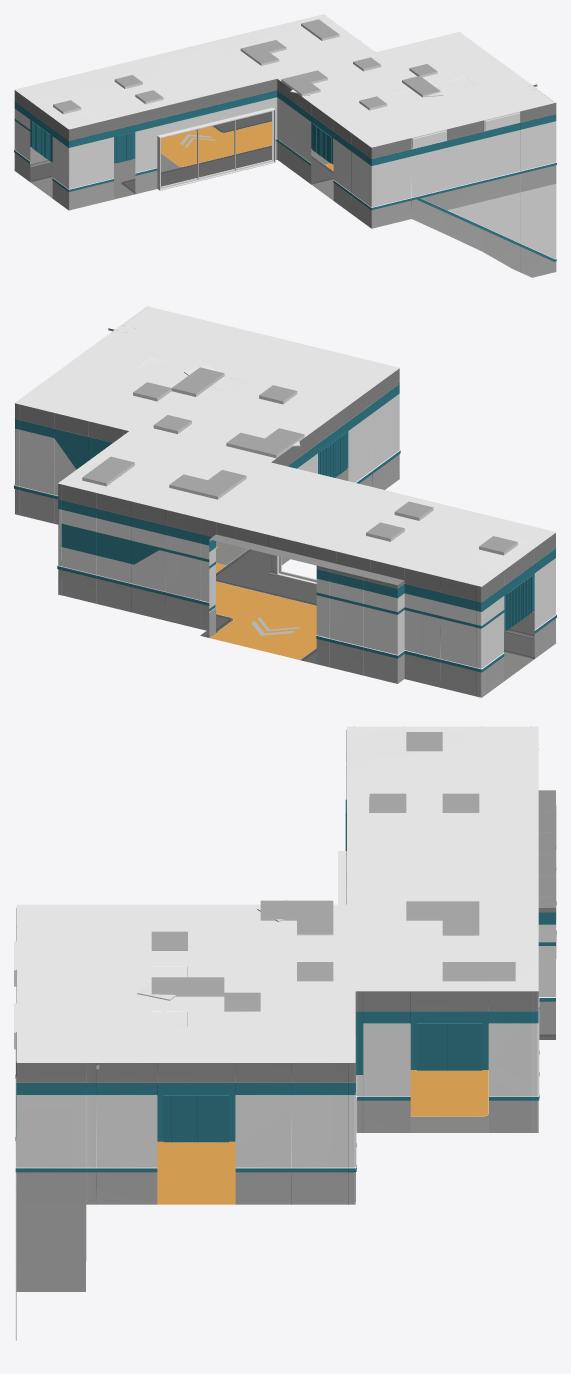
The picture shows the model from 3 angles, top to bottom: view 1: azimuth 30°, elevation 25°; view 2: azimuth 150°, elevation 25°; view 3: azimuth 270°, elevation 25°; orthographic projection. The views are drawn at different scales.
Visible parts, largest first — view 1: SM_H_Building_FutureTech_HOrange_01_InterWall_07; view 2: SM_H_Building_FutureTech_HOrange_01_InterWall_07; view 3: SM_H_Building_FutureTech_HOrange_01_InterWall_07.
Part boxes in pixels (left/top/right/bottom): SM_H_Building_FutureTech_HOrange_01_InterWall_07: left=14, top=14, right=556, bottom=277; SM_H_Building_FutureTech_HOrange_01_InterWall_07: left=14, top=306, right=556, bottom=697; SM_H_Building_FutureTech_HOrange_01_InterWall_07: left=14, top=726, right=556, bottom=1340.
Size of the model in its own units: 719 by 1068 by 440.
